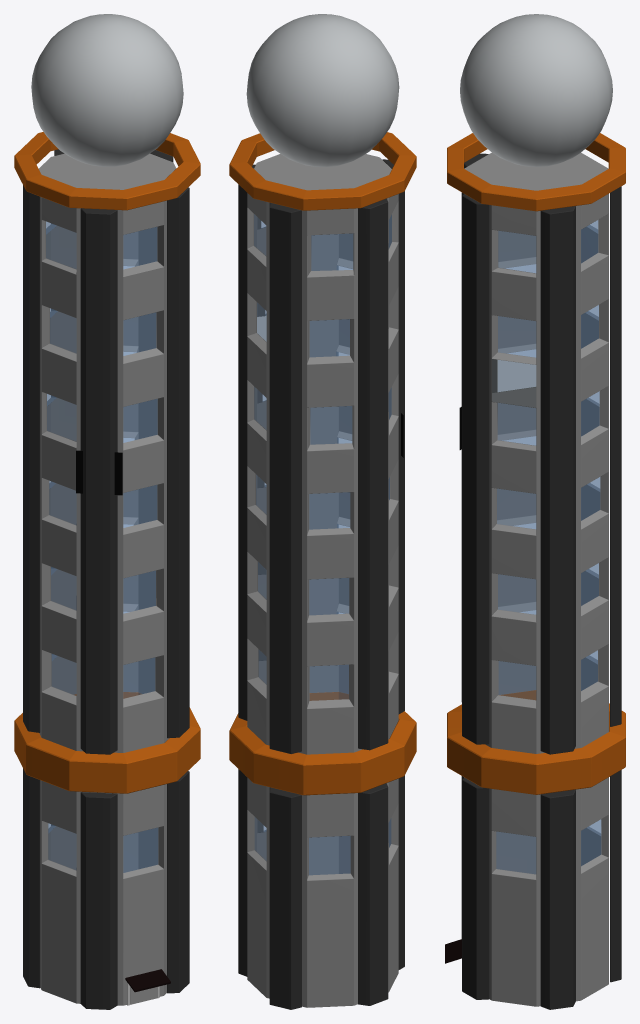
The model's file is AngleBuilding05.fbx.
The picture shows the model from 3 angles, left to right: view 1: azimuth 30°, elevation 25°; view 2: azimuth 150°, elevation 25°; view 3: azimuth 270°, elevation 25°; orthographic projection.
Visible parts, largest first — view 1: AngleBuilding_05; view 2: AngleBuilding_05; view 3: AngleBuilding_05.
Boxes of the visible parts, <box> form: AngleBuilding_05: <box>14,14,200,1009</box>; AngleBuilding_05: <box>229,14,416,1009</box>; AngleBuilding_05: <box>445,14,625,1009</box>.
Size of the model in its own units: 791 by 4439 by 762.
